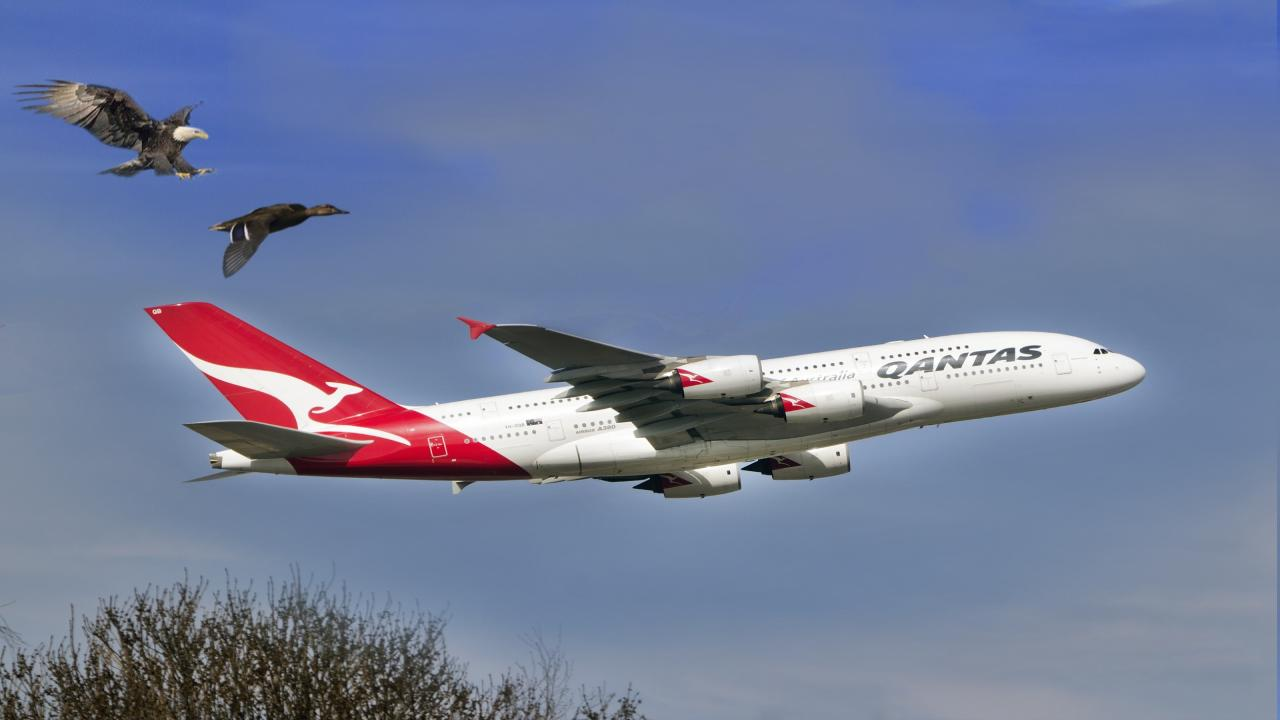Airplane: (125, 288, 1158, 514)
Bird: (14, 70, 230, 189), (191, 190, 370, 280)
